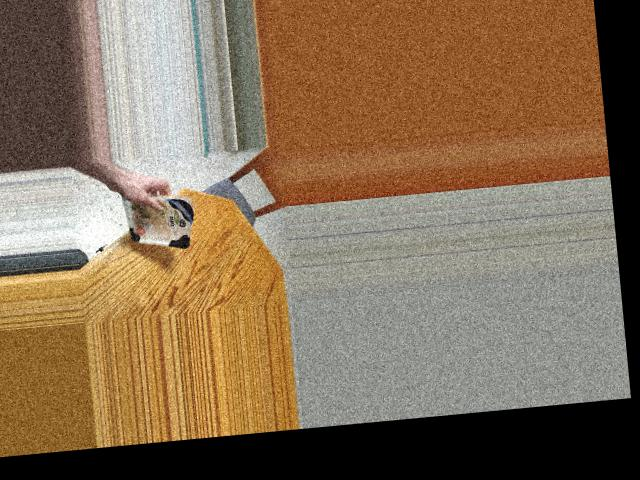cheese: (110, 187, 199, 250)
